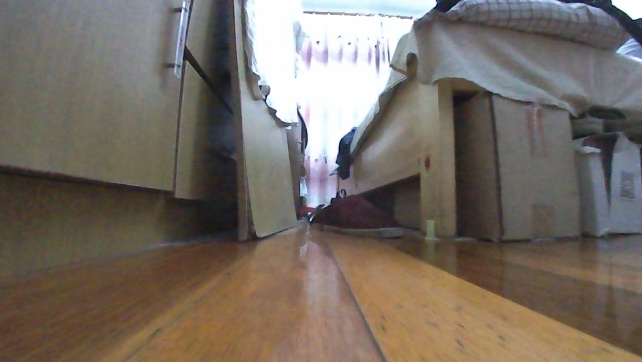bed1: (332, 0, 641, 244)
shoe: (305, 192, 406, 241)
